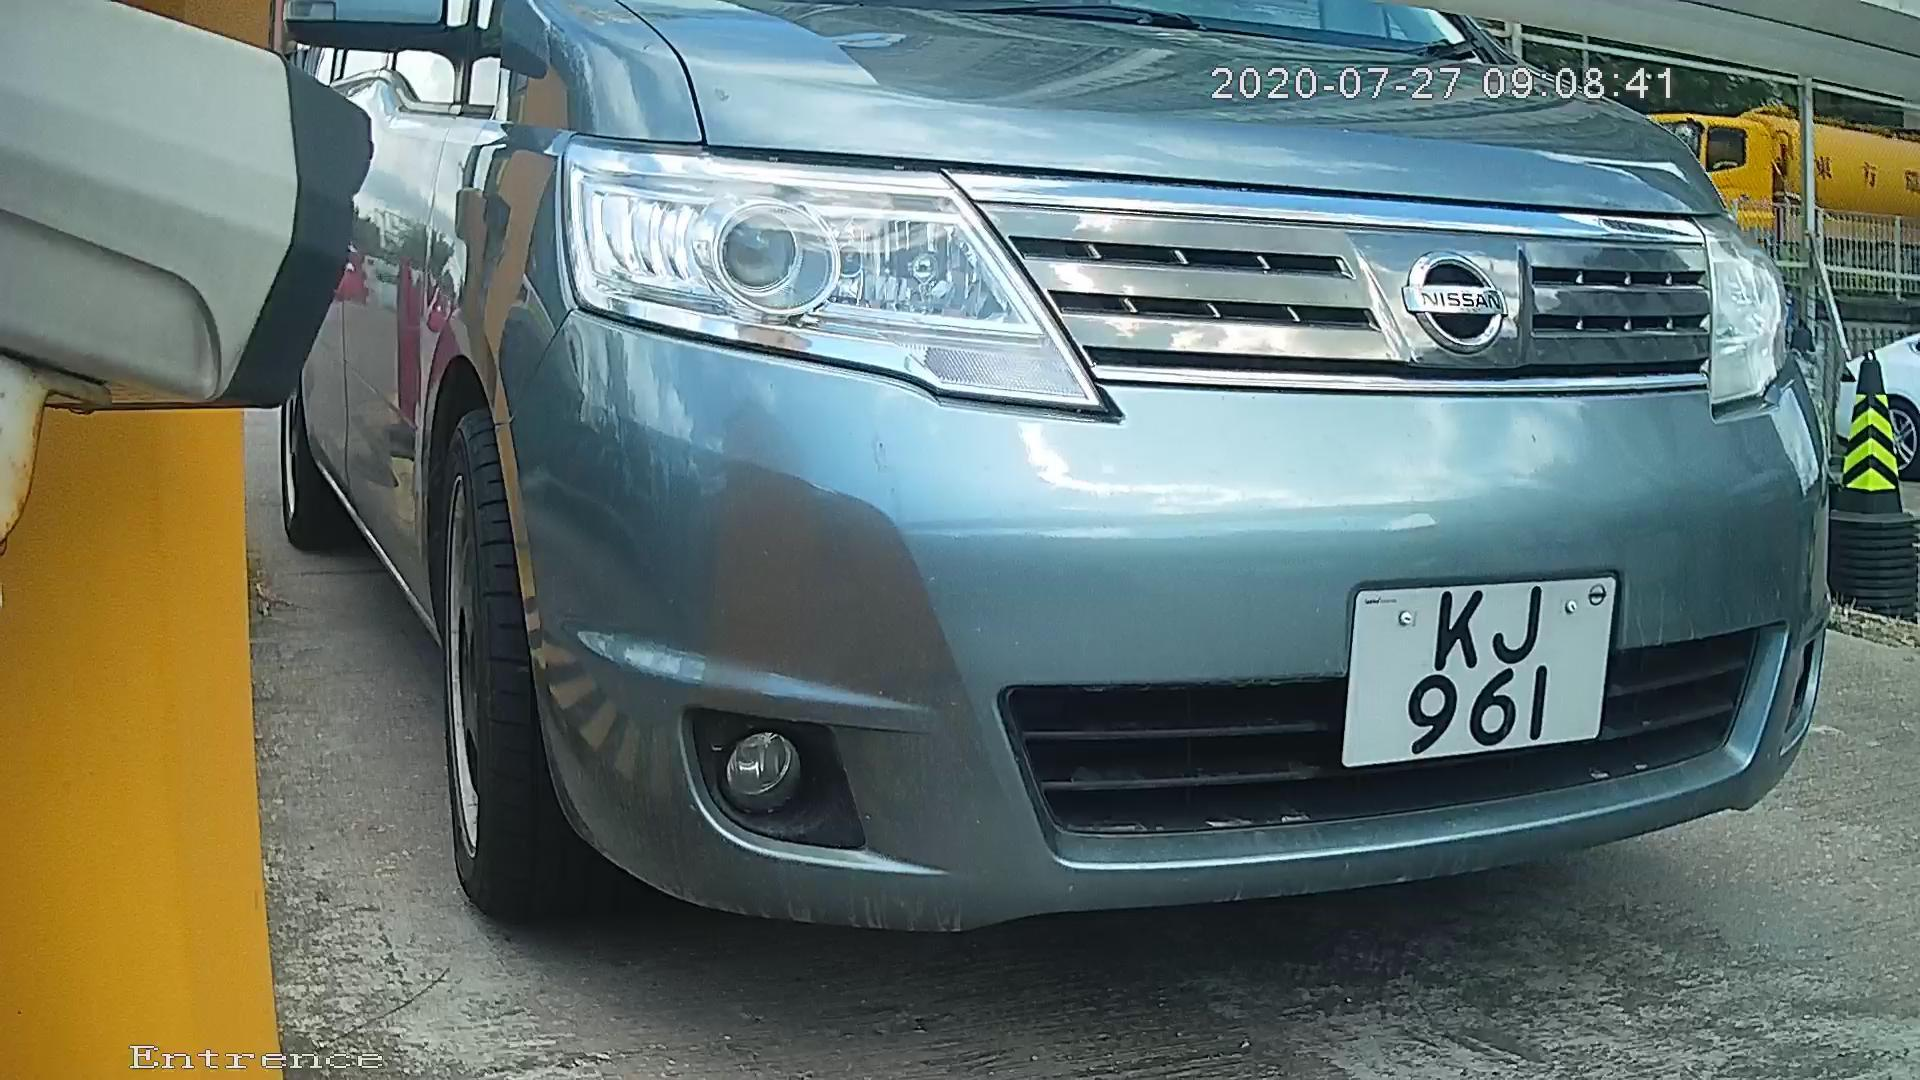License Plate: (1329, 560, 1629, 777)
